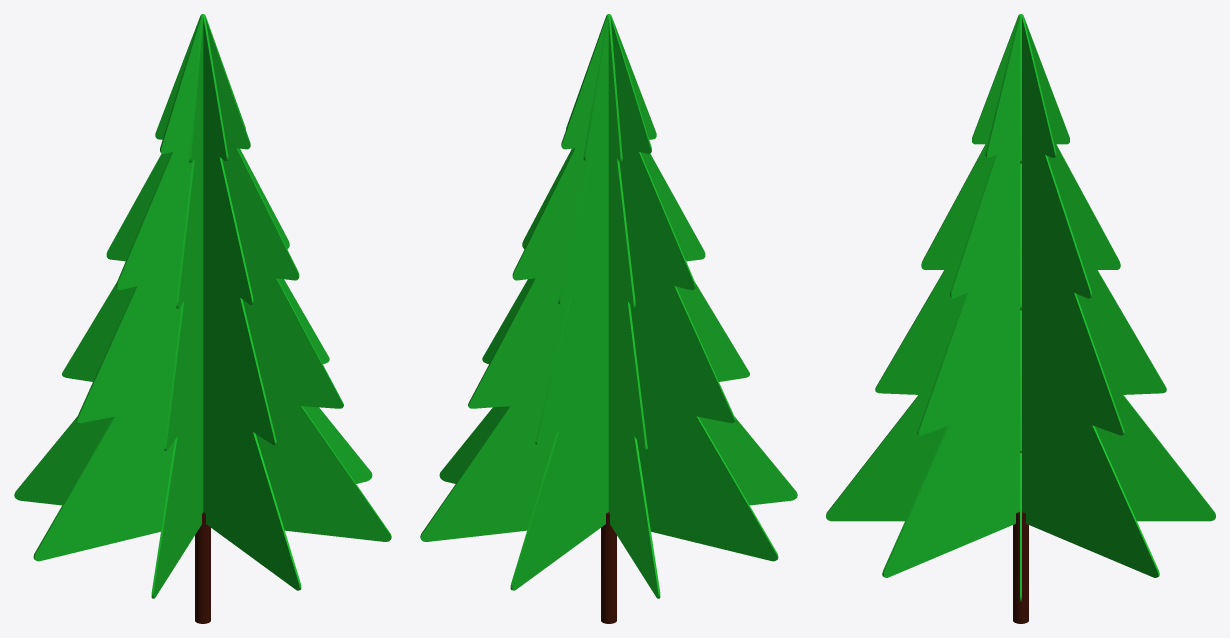
Rendered from pine.obj.
3 renders of one model, left to right at view 1: azimuth 30°, elevation 25°; view 2: azimuth 150°, elevation 25°; view 3: azimuth 270°, elevation 25°, orthographic.
Visible parts, largest first — view 1: Pine_Tree; view 2: Pine_Tree; view 3: Pine_Tree.
Boxes of the visible parts, x1,y1,x2,y2 form: Pine_Tree: (14, 14, 391, 623); Pine_Tree: (420, 14, 797, 623); Pine_Tree: (826, 14, 1215, 623).
Bounding box in the file's own units: 1.31 × 2.25 × 1.31.
